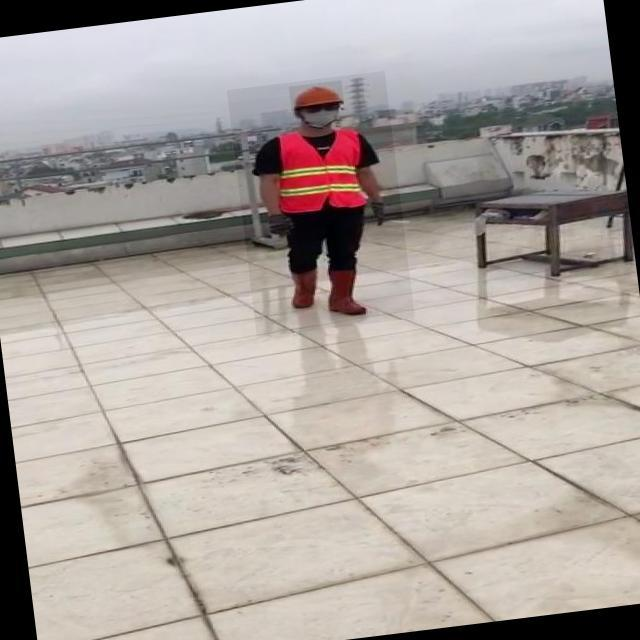Gloves: (262, 210, 295, 238), (372, 199, 389, 225)
Helmet: (289, 80, 344, 110)
Human: (227, 70, 416, 337)
Safety Boot: (326, 266, 368, 318), (285, 264, 324, 310)
Safety Vest: (271, 121, 369, 216)
